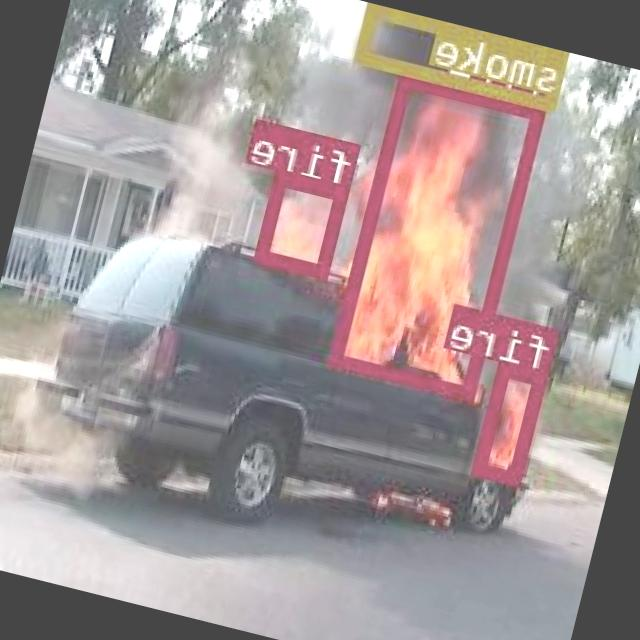fire: (332, 72, 548, 399), (256, 169, 352, 276), (474, 361, 551, 485)
smoke: (356, 2, 570, 110)
